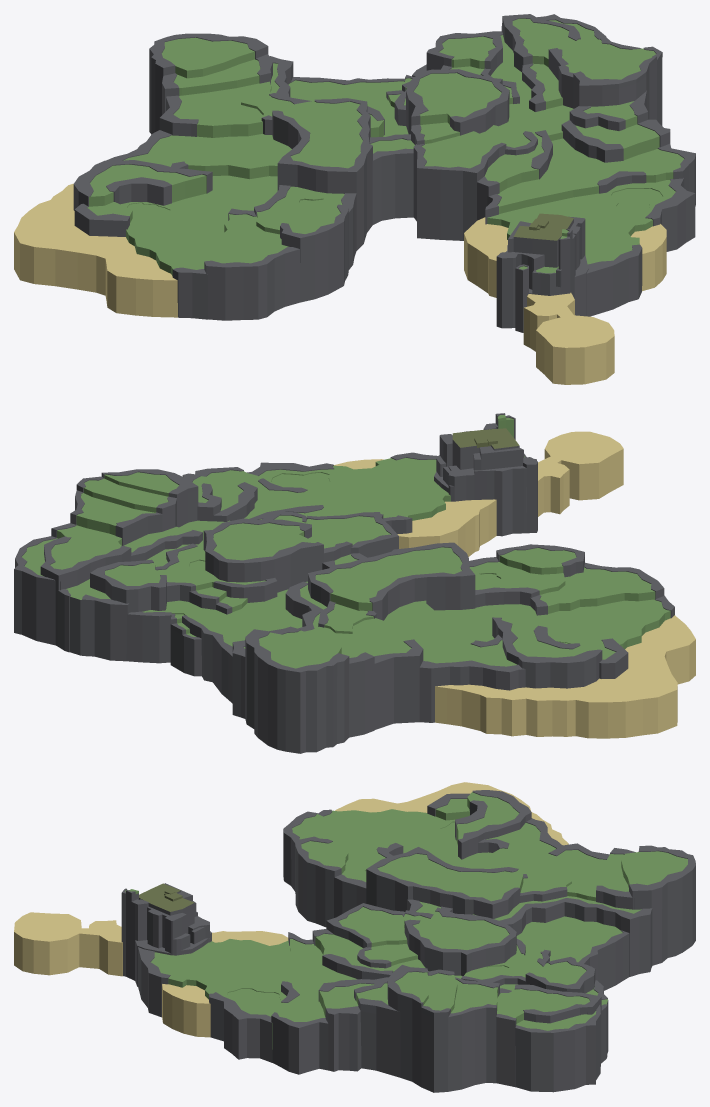
The model's file is tiles_weeping.glb.
The picture shows the model from 3 angles, top to bottom: view 1: azimuth 30°, elevation 25°; view 2: azimuth 150°, elevation 25°; view 3: azimuth 270°, elevation 25°; orthographic projection. The views are drawn at different scales.
Parts seen in each view (by area): view 1: Plane.128, Plane.119, Plane.124, Plane.121, Plane.125, Plane.120, Plane.102, Plane.111, Plane.100, Plane.109, Plane.122, Plane.123 (+20 smaller); view 2: Plane.128, Plane.115, Plane.121, Plane.120, Plane.119, Plane.106, Plane.100, Plane.122, Plane.109, Plane.124, Plane.117, Plane.095 (+20 smaller); view 3: Plane.100, Plane.119, Plane.128, Plane.121, Plane.101, Plane.102, Plane.115, Plane.104, Plane.120, Plane.109, Plane.106, Plane.096 (+17 smaller).
Part boxes in pixels (bbox=[...]): Plane.128: bbox=[14, 183, 666, 384]; Plane.119: bbox=[487, 178, 695, 316]; Plane.124: bbox=[120, 175, 277, 319]; Plane.121: bbox=[272, 98, 372, 250]; Plane.125: bbox=[204, 208, 300, 320]; Plane.120: bbox=[496, 213, 588, 332]; Plane.102: bbox=[485, 138, 695, 224]; Plane.111: bbox=[413, 131, 506, 240]; Plane.100: bbox=[548, 37, 662, 125]; Plane.109: bbox=[406, 69, 509, 135]; Plane.122: bbox=[106, 130, 291, 179]; Plane.123: bbox=[73, 160, 212, 210]; Plane.128: bbox=[334, 431, 695, 738]; Plane.115: bbox=[245, 629, 349, 753]; Plane.121: bbox=[308, 542, 475, 620]; Plane.120: bbox=[434, 413, 537, 536]; Plane.119: bbox=[247, 452, 450, 520]; Plane.106: bbox=[126, 589, 302, 703]; Plane.100: bbox=[70, 469, 198, 545]; Plane.122: bbox=[384, 600, 525, 722]; Plane.109: bbox=[203, 518, 323, 592]; Plane.124: bbox=[435, 595, 674, 648]; Plane.117: bbox=[305, 618, 423, 729]; Plane.095: bbox=[57, 520, 229, 661]; Plane.100: bbox=[387, 965, 499, 1092]; Plane.119: bbox=[138, 939, 289, 1062]; Plane.128: bbox=[14, 782, 568, 1037]; Plane.121: bbox=[366, 847, 523, 918]; Plane.101: bbox=[318, 977, 400, 1077]; Plane.102: bbox=[271, 932, 356, 1074]; Plane.115: bbox=[621, 845, 695, 965]; Plane.104: bbox=[515, 1004, 600, 1092]; Plane.120: bbox=[121, 883, 211, 986]; Plane.109: bbox=[404, 907, 516, 975]; Plane.106: bbox=[516, 916, 629, 990]; Plane.096: bbox=[496, 984, 601, 1087].
Size of the model in its own units: 14.12 by 2.05 by 14.69.
